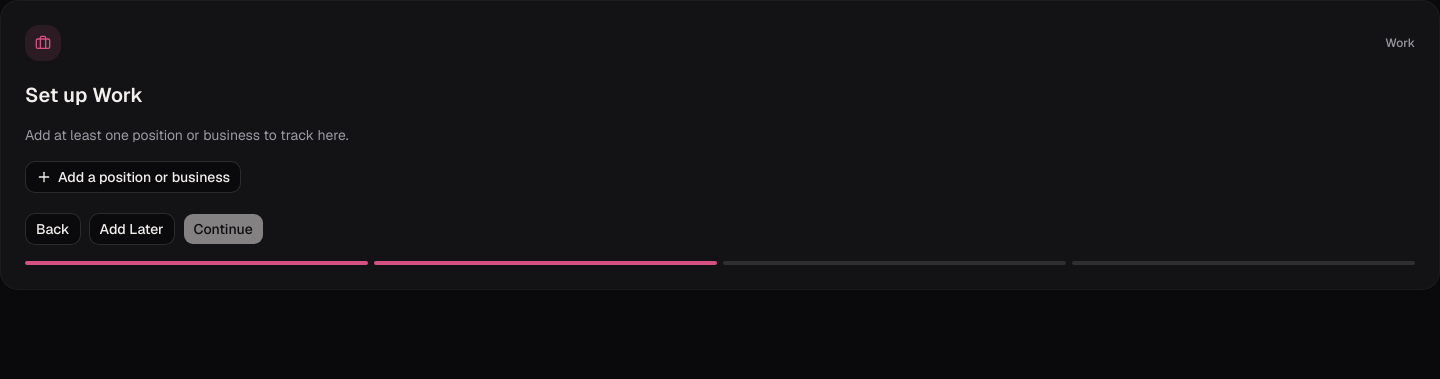
Test case: WorkStep — ONB item 7 › shows "Position", not "Job", as the kind label and testId
The image size is (1440, 379).
Step 1. Click the button with test id "work-add-subdomain" → click(133, 177), box [25,161,241,193]
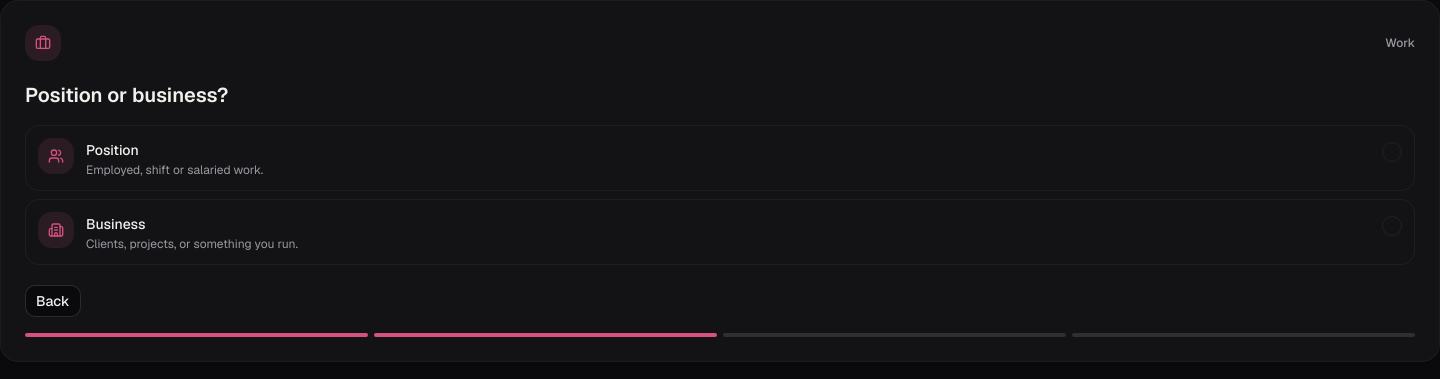
Expected: the text "Position" is shown, [86,141,139,159]
Expected: the button with test id "work-kind-position" is shown, [25,125,1415,191]
